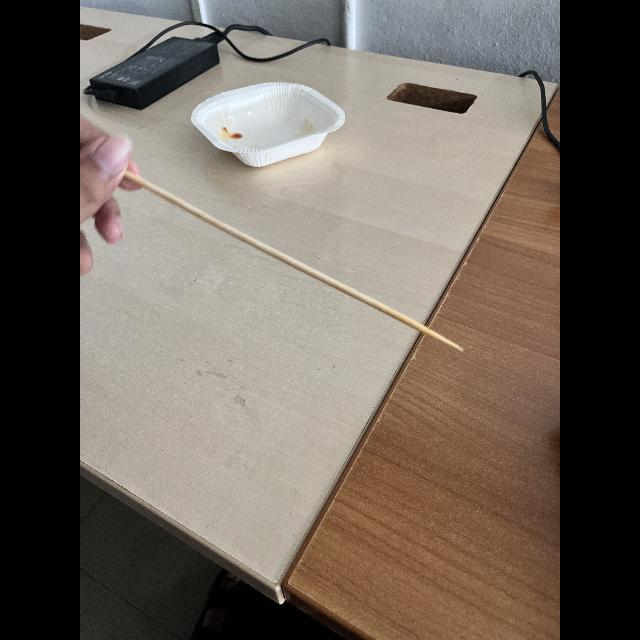cardboard_bowl: (192, 84, 351, 174)
stick: (95, 129, 479, 379)
